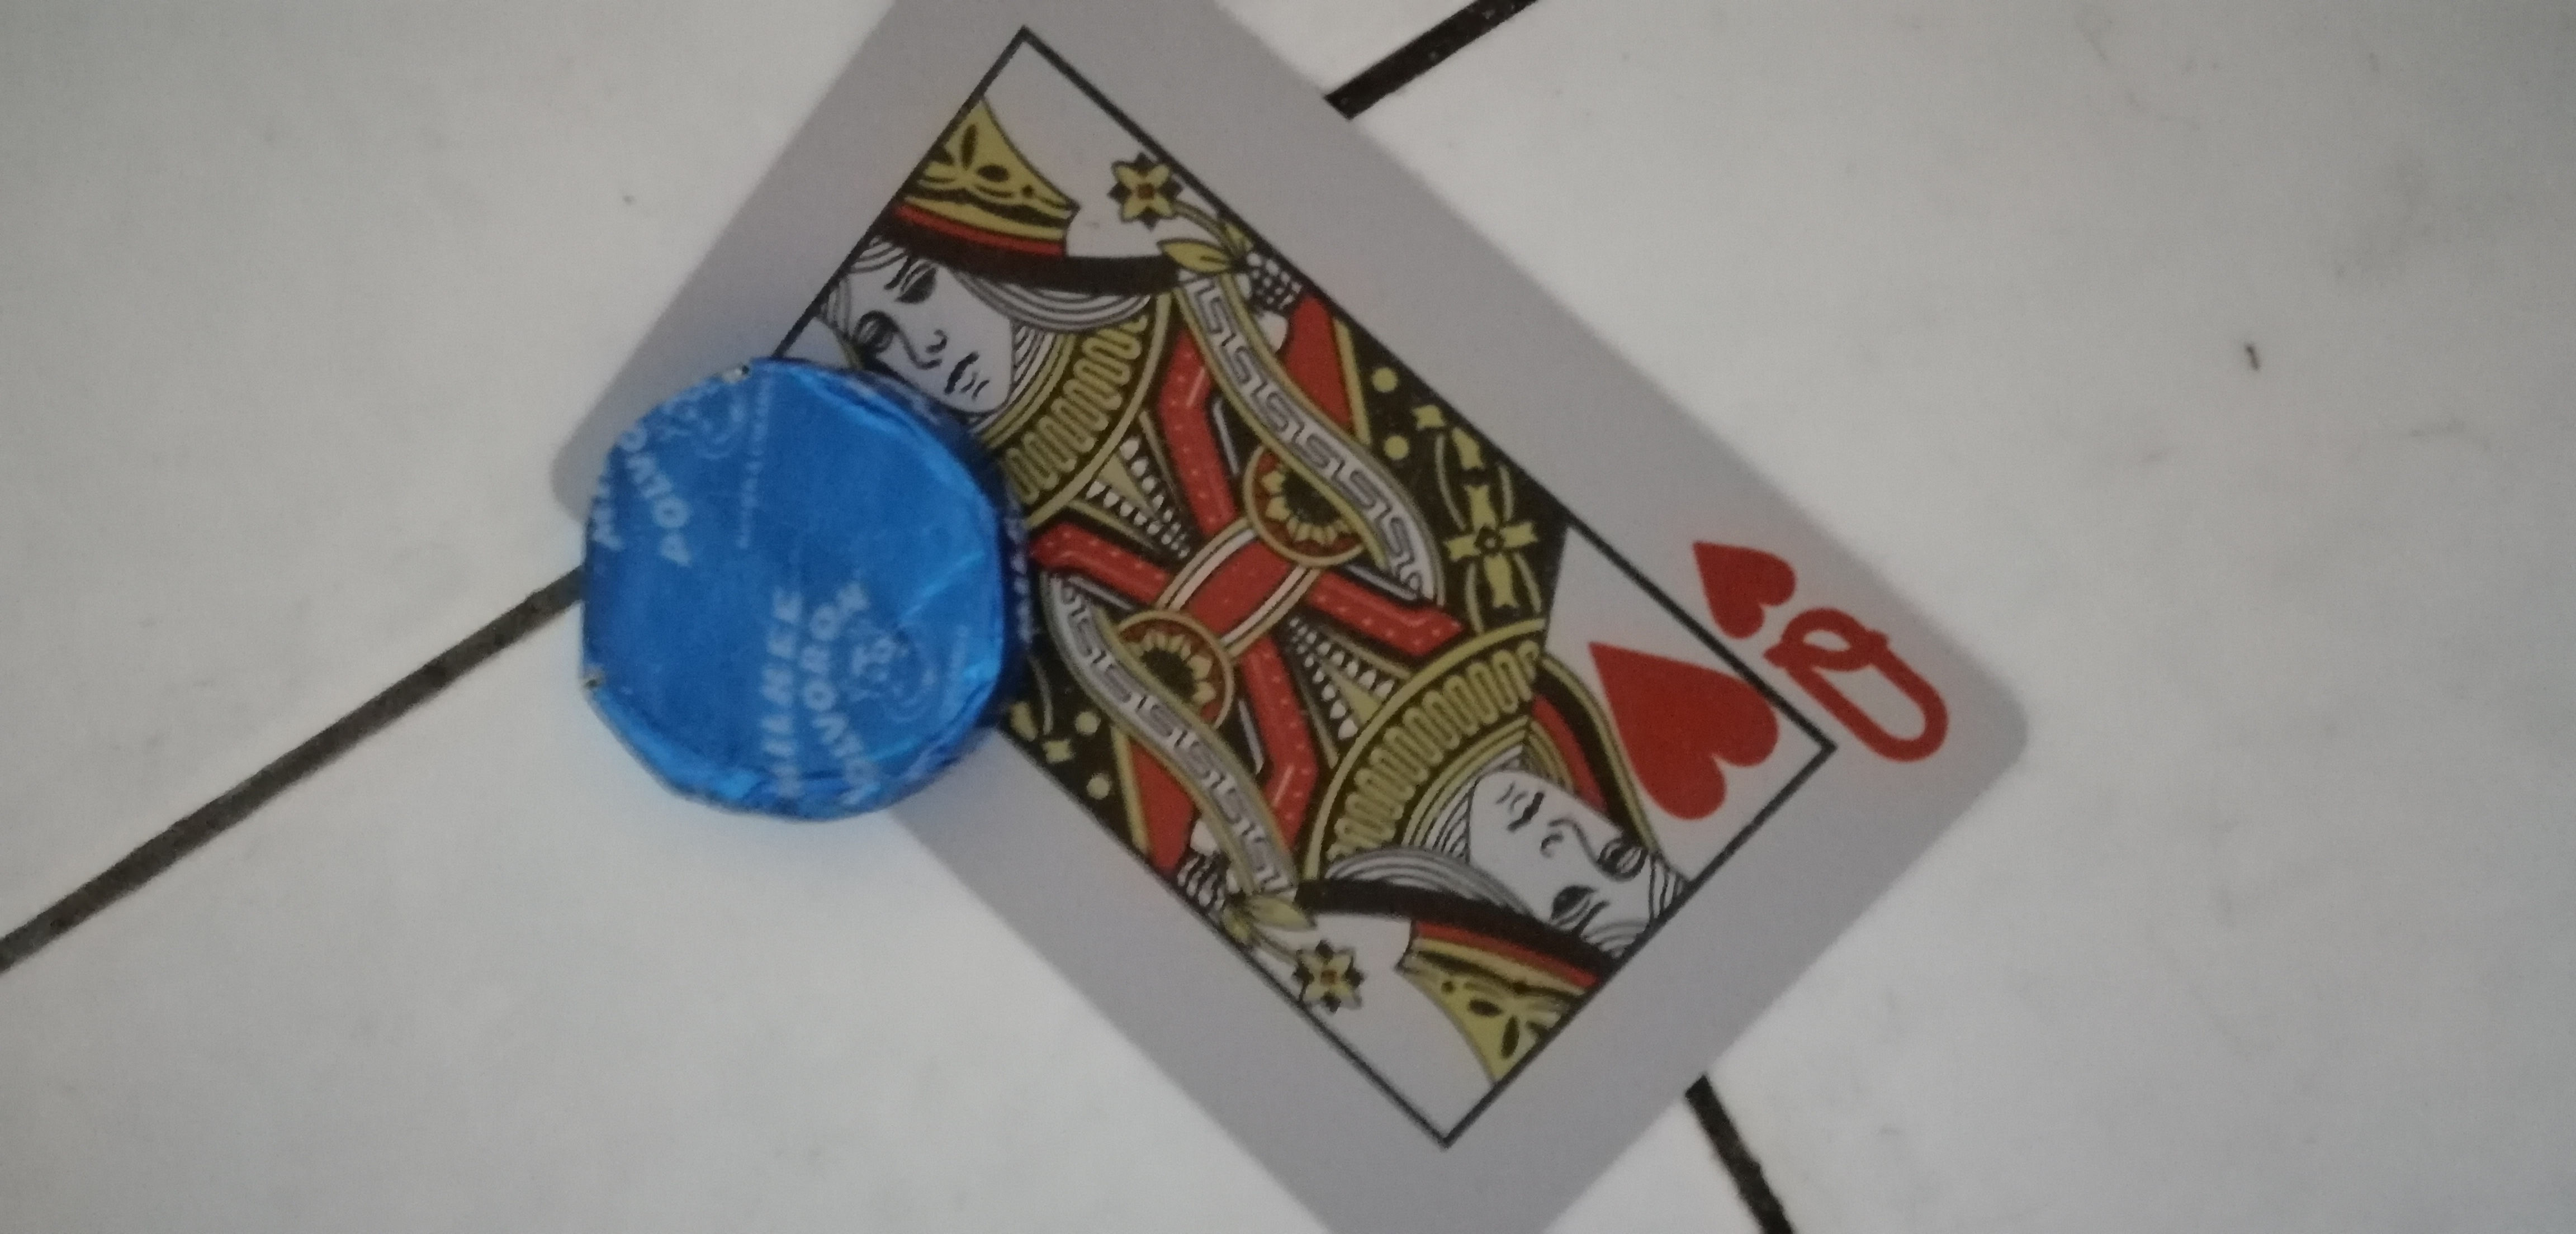queen: (559, 46, 2052, 1168)
